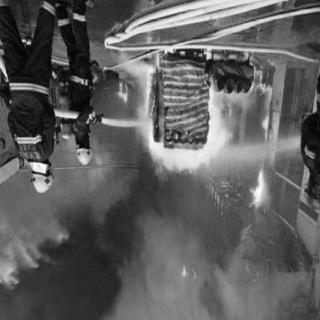Smoke: (7, 193, 157, 320)
